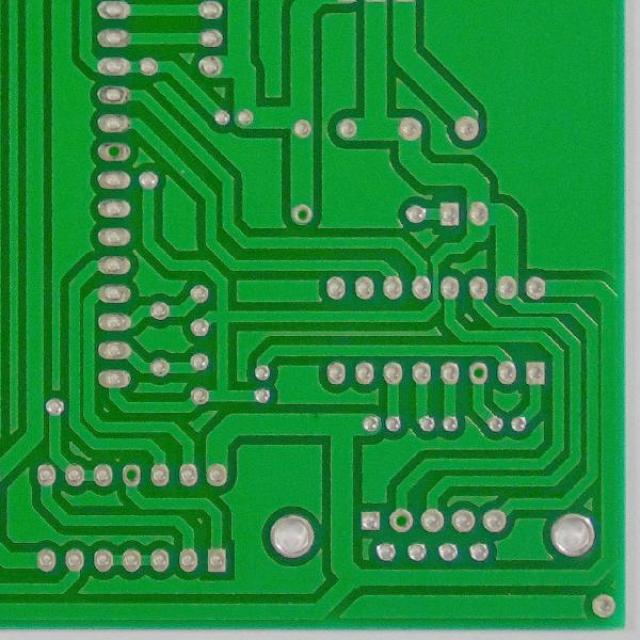Missing_Hole: (95, 140, 131, 162), (387, 508, 415, 534), (118, 461, 143, 488), (288, 202, 316, 226), (466, 361, 490, 387)
